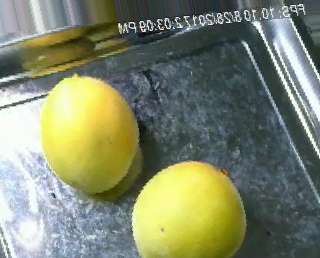Mango: (34, 69, 141, 191), (121, 158, 247, 254)
